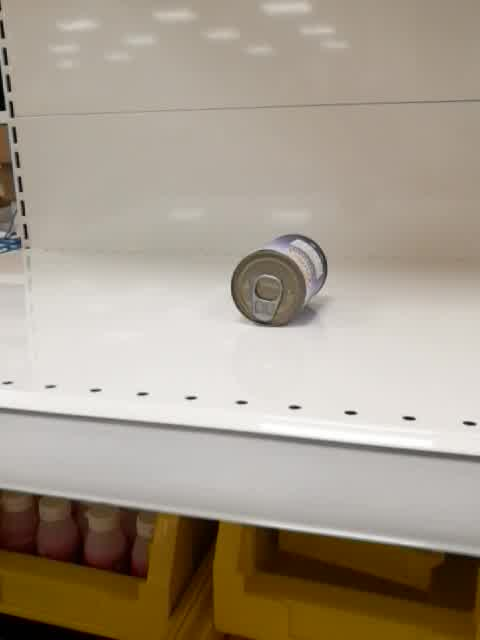sardine: (229, 232, 328, 327)
